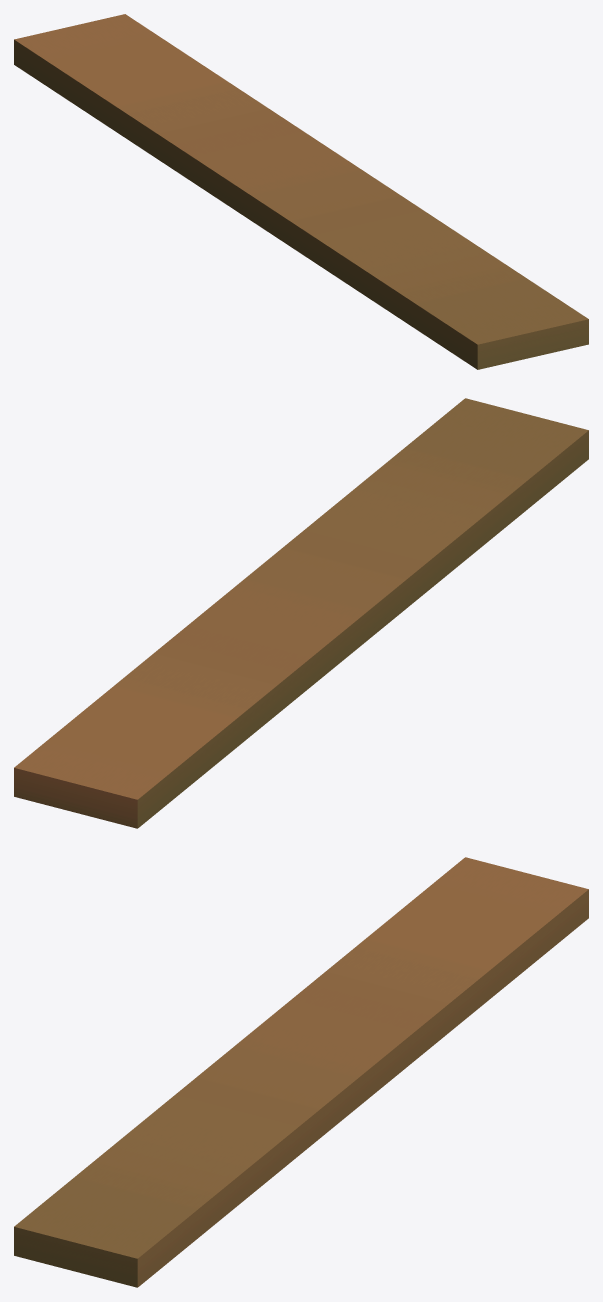
3 renders of one model, top to bottom at view 1: azimuth 30°, elevation 25°; view 2: azimuth 150°, elevation 25°; view 3: azimuth 330°, elevation 25°, orthographic. The views are drawn at different scales.
Parts seen in each view (by area): view 1: Object047; view 2: Object047; view 3: Object047.
Boxes of the visible parts, <box> form: Object047: <box>14,14,588,369</box>; Object047: <box>14,398,588,828</box>; Object047: <box>14,857,588,1287</box>.
Bounding box in the file's own units: 81.96 × 13.68 × 422.
